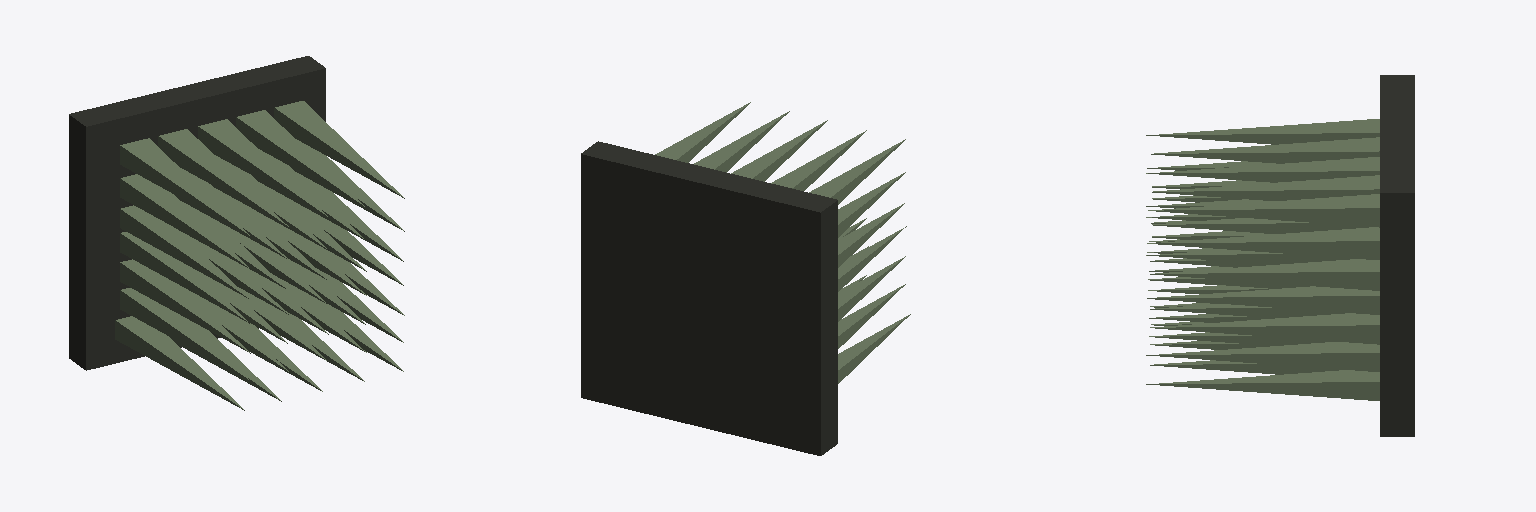
3 views of the same model, side by side, from view 1: azimuth 30°, elevation 25°; view 2: azimuth 150°, elevation 25°; view 3: azimuth 270°, elevation 25° (orthographic).
Visible parts, largest first — view 1: Mesh1 Group1 Model, Mesh34 Group1 Model, Mesh32 Group1 Model, Mesh21 Group1 Model, Mesh15 Group1 Model, Mesh30 Group1 Model, Mesh7 Group1 Model, Mesh36 Group1 Model, Mesh35 Group1 Model, Mesh13 Group1 Model, Mesh18 Group1 Model, Mesh19 Group1 Model (+24 smaller); view 2: Mesh1 Group1 Model, Mesh34 Group1 Model, Mesh32 Group1 Model, Mesh21 Group1 Model, Mesh30 Group1 Model, Mesh15 Group1 Model, Mesh7 Group1 Model, Mesh36 Group1 Model, Mesh13 Group1 Model, Mesh35 Group1 Model, Mesh18 Group1 Model, Mesh19 Group1 Model; view 3: Mesh1 Group1 Model, Mesh21 Group1 Model, Mesh14 Group1 Model, Mesh20 Group1 Model, Mesh8 Group1 Model, Mesh3 Group1 Model, Mesh9 Group1 Model, Mesh6 Group1 Model, Mesh15 Group1 Model, Mesh30 Group1 Model, Mesh34 Group1 Model, Mesh32 Group1 Model (+10 smaller).
Boxes of the visible parts, x1=… form: Mesh1 Group1 Model: x1=69, y1=56, x2=325, y2=370; Mesh34 Group1 Model: x1=120, y1=138, x2=249, y2=235; Mesh32 Group1 Model: x1=198, y1=119, x2=327, y2=216; Mesh21 Group1 Model: x1=274, y1=101, x2=404, y2=198; Mesh15 Group1 Model: x1=158, y1=129, x2=289, y2=227; Mesh30 Group1 Model: x1=236, y1=110, x2=365, y2=207; Mesh7 Group1 Model: x1=115, y1=316, x2=244, y2=410; Mesh36 Group1 Model: x1=120, y1=174, x2=249, y2=268; Mesh35 Group1 Model: x1=120, y1=205, x2=250, y2=299; Mesh13 Group1 Model: x1=120, y1=259, x2=250, y2=353; Mesh18 Group1 Model: x1=120, y1=288, x2=249, y2=380; Mesh19 Group1 Model: x1=120, y1=232, x2=249, y2=323; Mesh1 Group1 Model: x1=581, y1=141, x2=837, y2=455; Mesh34 Group1 Model: x1=809, y1=139, x2=905, y2=204; Mesh32 Group1 Model: x1=731, y1=120, x2=827, y2=181; Mesh21 Group1 Model: x1=655, y1=102, x2=750, y2=162; Mesh30 Group1 Model: x1=694, y1=111, x2=789, y2=172; Mesh15 Group1 Model: x1=771, y1=130, x2=866, y2=190; Mesh7 Group1 Model: x1=838, y1=314, x2=910, y2=383; Mesh36 Group1 Model: x1=838, y1=172, x2=905, y2=237; Mesh13 Group1 Model: x1=838, y1=256, x2=905, y2=321; Mesh35 Group1 Model: x1=838, y1=203, x2=904, y2=267; Mesh18 Group1 Model: x1=838, y1=284, x2=905, y2=348; Mesh19 Group1 Model: x1=838, y1=226, x2=906, y2=291; Mesh1 Group1 Model: x1=1380, y1=75, x2=1414, y2=436; Mesh21 Group1 Model: x1=1148, y1=194, x2=1379, y2=227; Mesh14 Group1 Model: x1=1147, y1=227, x2=1379, y2=259; Mesh20 Group1 Model: x1=1150, y1=259, x2=1379, y2=290; Mesh8 Group1 Model: x1=1150, y1=313, x2=1379, y2=344; Mesh3 Group1 Model: x1=1146, y1=370, x2=1379, y2=400; Mesh9 Group1 Model: x1=1146, y1=342, x2=1379, y2=371; Mesh6 Group1 Model: x1=1147, y1=286, x2=1379, y2=314; Mesh15 Group1 Model: x1=1151, y1=137, x2=1379, y2=163; Mesh30 Group1 Model: x1=1152, y1=175, x2=1379, y2=200; Mesh34 Group1 Model: x1=1146, y1=119, x2=1379, y2=144; Mesh32 Group1 Model: x1=1146, y1=157, x2=1379, y2=182.
Size of the model in its own units: 5.28 by 5.12 by 5.12.
2 materials, 2 textured.